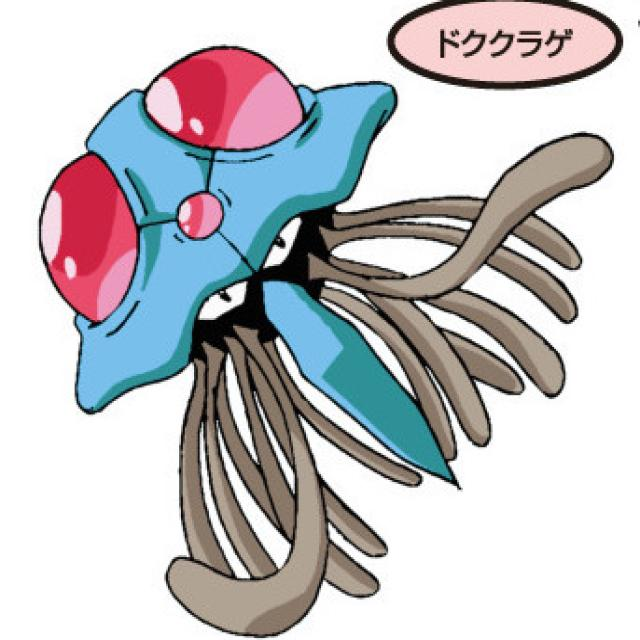Tentacruel: (45, 49, 472, 480)
